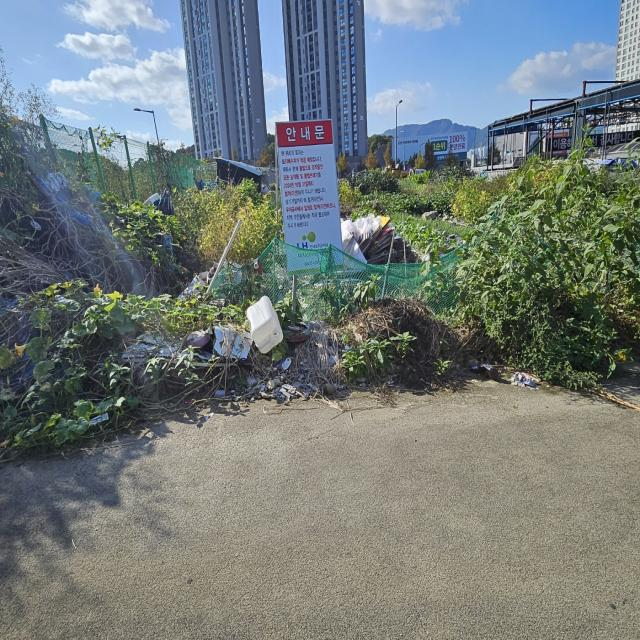General Waste: (135, 316, 357, 414)
